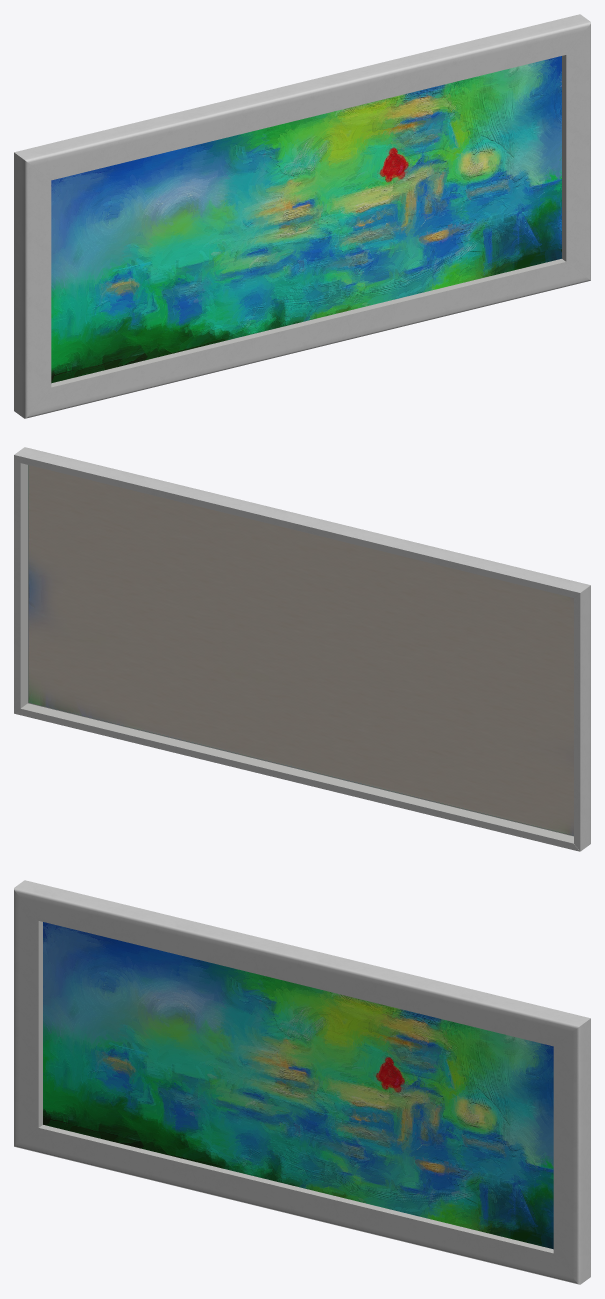
3 views of the same model, one above another, from view 1: azimuth 30°, elevation 25°; view 2: azimuth 150°, elevation 25°; view 3: azimuth 330°, elevation 25° (orthographic).
Parts seen in each view (by area): view 1: holst, ramka-v, ramka-n, ramka-l, ramka-r; view 2: holst, ramka-v, ramka-n, ramka-l, ramka-r; view 3: holst, ramka-v, ramka-n, ramka-r, ramka-l.
Part boxes in pixels (x1,y1,x2,y2): holst: [51, 56, 561, 383]; ramka-v: [14, 14, 590, 180]; ramka-n: [26, 259, 590, 418]; ramka-l: [14, 152, 51, 418]; ramka-r: [562, 24, 590, 280]; holst: [28, 465, 573, 835]; ramka-v: [14, 447, 590, 597]; ramka-n: [14, 702, 579, 851]; ramka-l: [574, 585, 590, 851]; ramka-r: [14, 455, 28, 713]; holst: [43, 922, 553, 1249]; ramka-v: [14, 880, 590, 1046]; ramka-n: [14, 1125, 578, 1284]; ramka-r: [553, 1018, 590, 1284]; ramka-l: [14, 890, 42, 1146].
Bounding box in the file's own units: 145 × 63.27 × 5.17.
5 materials, 5 textured.
